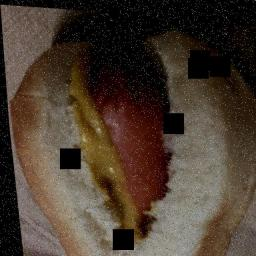hotdog: (84, 55, 177, 224)
